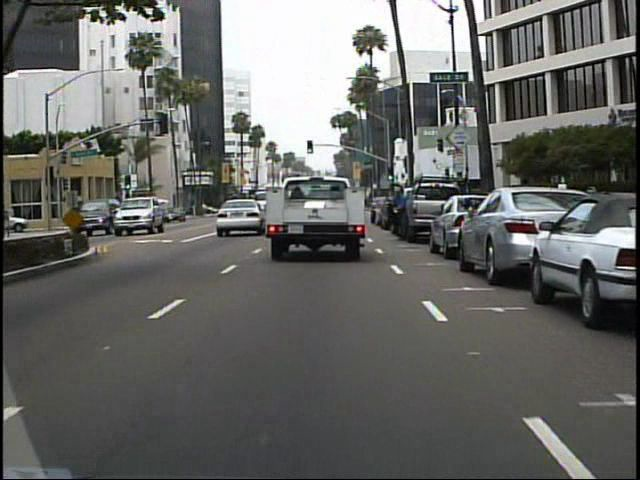person: (386, 184, 409, 237)
